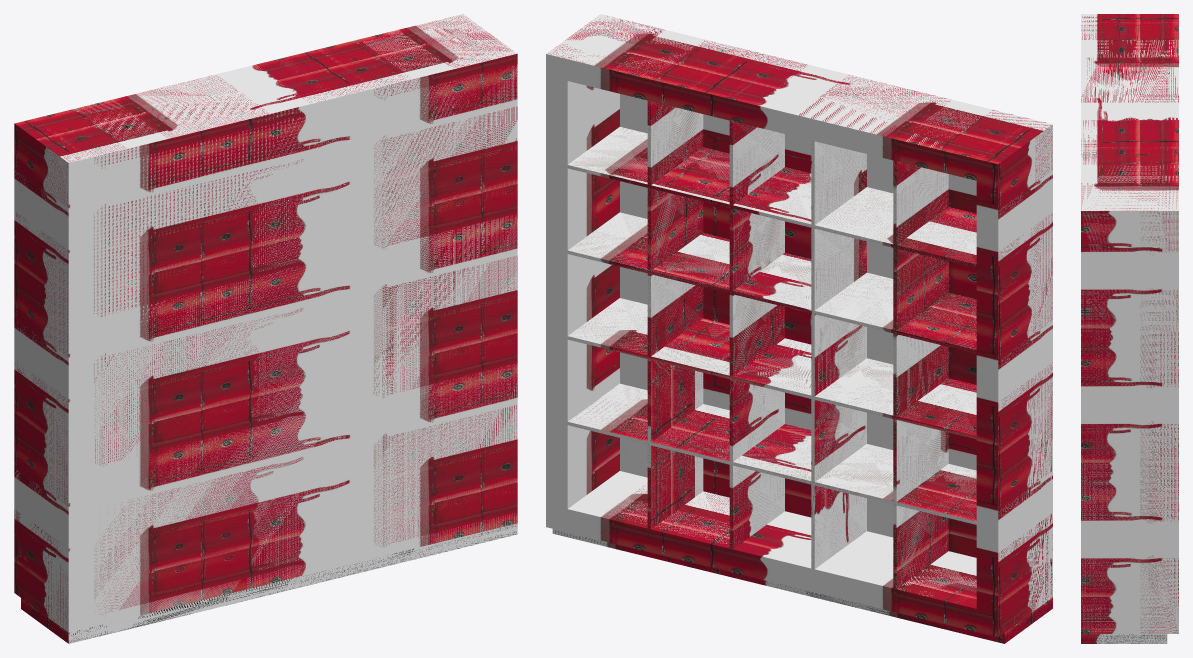
The picture shows the model from 3 angles, left to right: view 1: azimuth 30°, elevation 25°; view 2: azimuth 150°, elevation 25°; view 3: azimuth 270°, elevation 25°; orthographic projection. The views are drawn at different scales.
Visible parts, largest first — view 1: mesh1_mesh1-geometry; view 2: mesh1_mesh1-geometry; view 3: mesh1_mesh1-geometry.
Boxes of the visible parts, <box> form: mesh1_mesh1-geometry: <box>14,14,517,643</box>; mesh1_mesh1-geometry: <box>546,14,1052,643</box>; mesh1_mesh1-geometry: <box>1081,14,1178,643</box>.
Size of the model in its own units: 0.6914 by 0.7078 by 0.1449.
